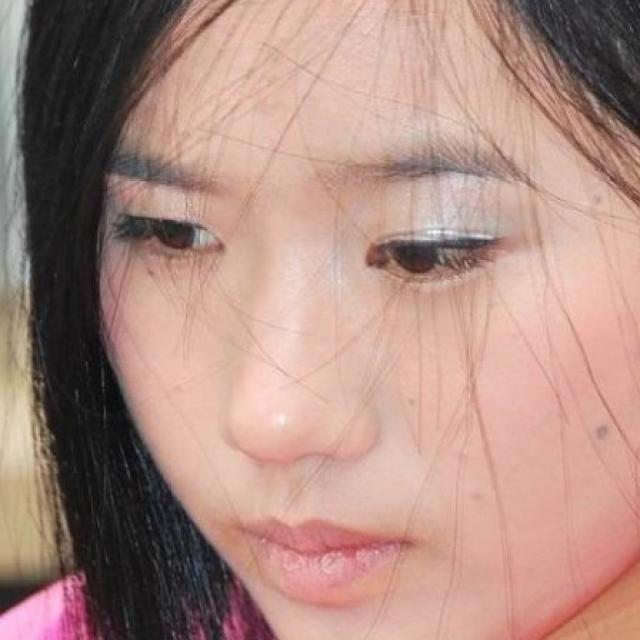Depress: (95, 0, 639, 639)
